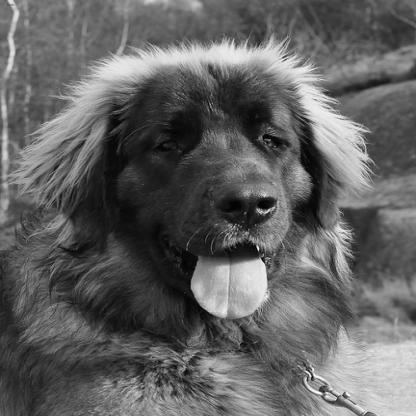Leonberger: (13, 26, 402, 365)
